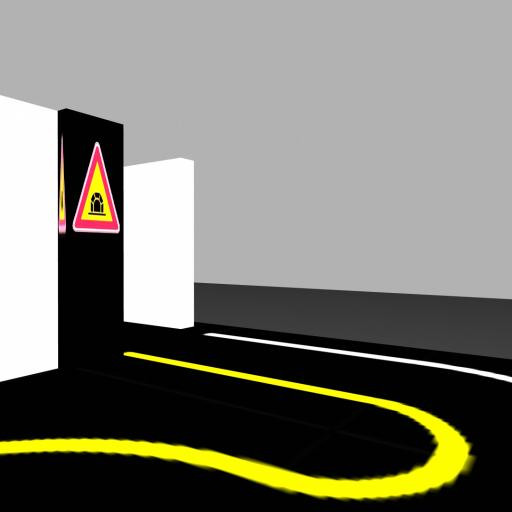Tunnel: (73, 143, 119, 232), (59, 137, 66, 233)
